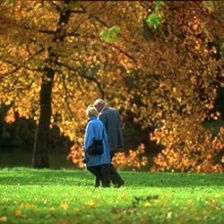neutral: (5, 3, 220, 224)
